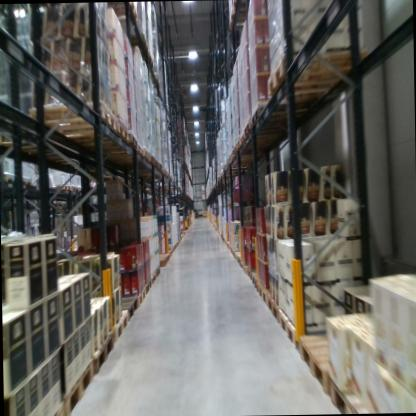pallet: (265, 48, 377, 100), (23, 88, 116, 135), (0, 126, 66, 192), (297, 322, 355, 396), (249, 99, 319, 132), (63, 357, 96, 416), (65, 115, 131, 144), (243, 117, 316, 138), (81, 127, 138, 152), (328, 375, 365, 413), (91, 325, 115, 379), (277, 307, 304, 349), (223, 1, 258, 32), (106, 2, 138, 25), (111, 308, 129, 347), (130, 39, 154, 67), (113, 294, 137, 321), (123, 30, 150, 52), (266, 291, 281, 326), (131, 285, 147, 312), (259, 281, 272, 307), (251, 273, 267, 293), (3, 172, 21, 189), (50, 401, 66, 416), (52, 182, 71, 194), (142, 277, 152, 296), (235, 251, 247, 265), (153, 264, 162, 281), (70, 183, 81, 195), (147, 271, 156, 284), (157, 256, 167, 267), (158, 252, 170, 261), (241, 262, 250, 274), (248, 266, 255, 281), (239, 257, 242, 268)
